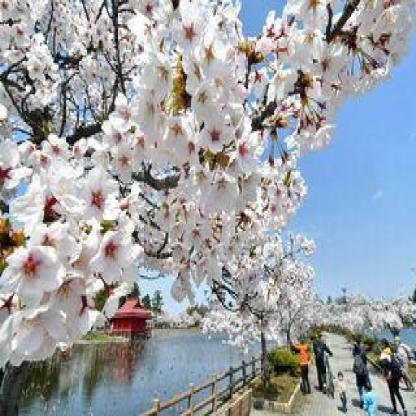Someiyoshino: (0, 1, 414, 372), (199, 228, 314, 357), (314, 291, 414, 333)
